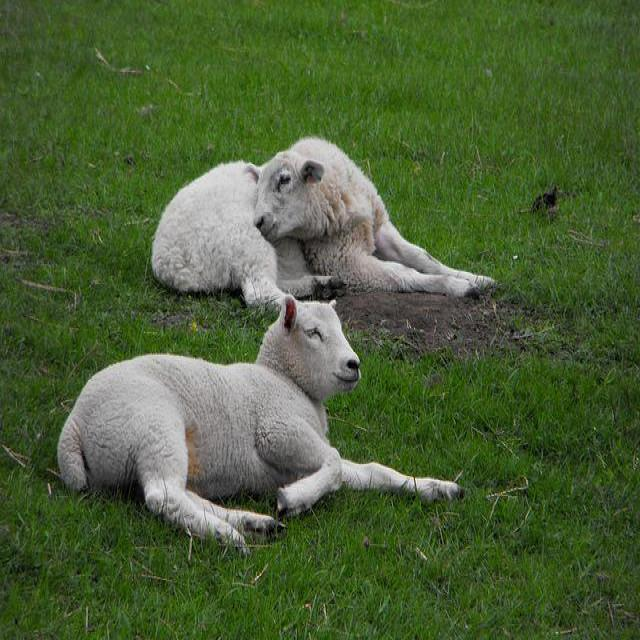Sheep: (58, 293, 465, 551), (150, 136, 497, 311)
